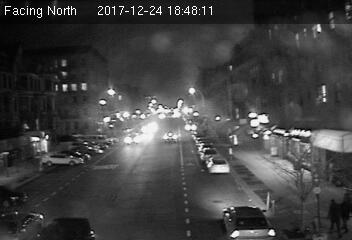car: (219, 204, 279, 240), (206, 156, 229, 174), (123, 132, 142, 145), (161, 131, 178, 143)
